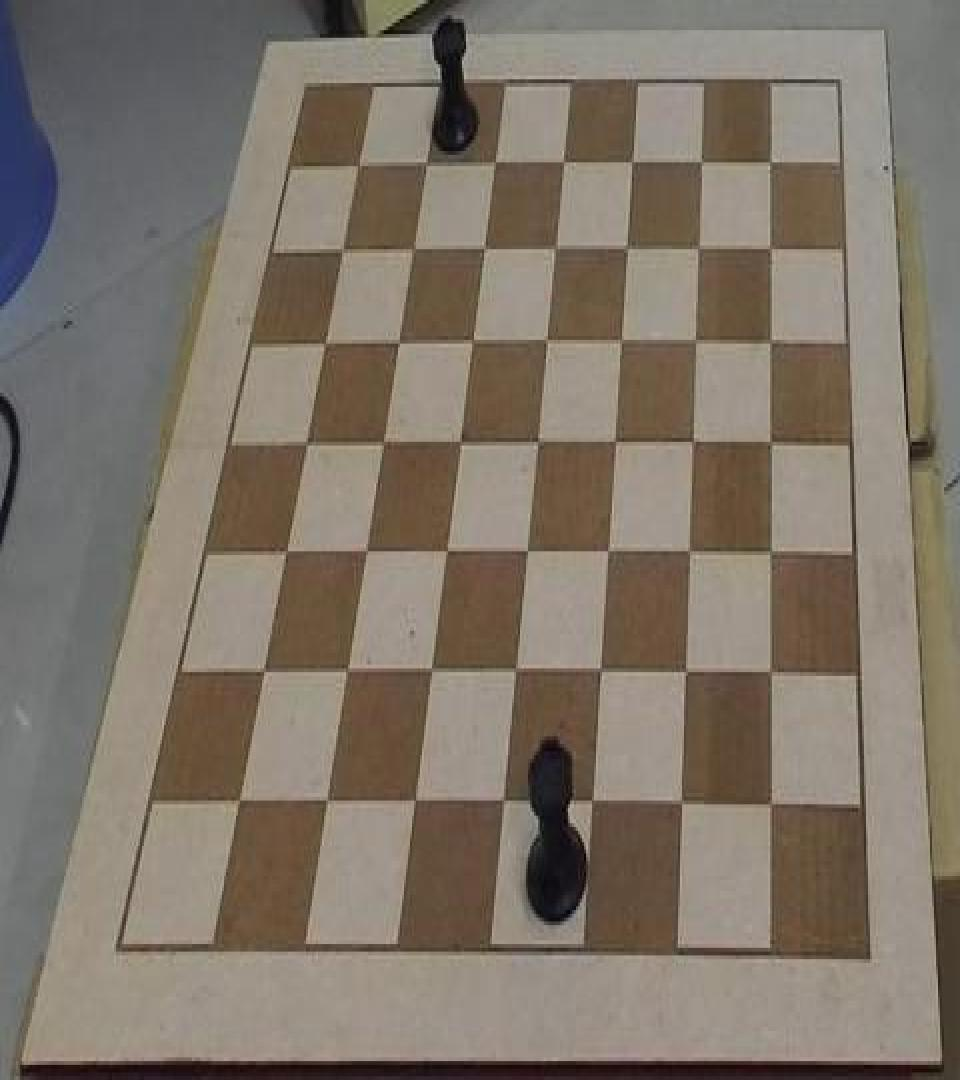xcorner: (761, 139, 781, 178), (691, 139, 711, 178), (622, 139, 642, 178), (553, 142, 573, 180), (484, 142, 504, 180), (416, 142, 436, 180), (348, 144, 368, 182), (761, 226, 781, 264), (689, 226, 709, 264), (617, 226, 637, 264), (545, 226, 565, 264), (474, 228, 494, 266), (403, 228, 423, 266), (332, 228, 352, 266), (761, 319, 781, 357), (686, 321, 706, 359), (611, 321, 631, 359), (536, 321, 556, 359), (462, 321, 482, 359), (388, 321, 408, 359), (315, 321, 335, 359), (762, 423, 782, 461), (683, 423, 703, 461), (605, 423, 625, 461), (527, 423, 547, 461), (450, 423, 470, 461), (372, 423, 392, 461), (296, 423, 316, 461), (762, 534, 782, 572), (680, 532, 700, 570), (598, 532, 618, 570), (517, 532, 537, 570), (436, 532, 456, 570), (355, 532, 375, 570), (275, 532, 295, 570), (762, 655, 782, 693), (676, 655, 696, 693), (591, 653, 611, 691), (506, 653, 526, 691), (421, 653, 441, 691), (337, 653, 357, 691), (253, 652, 273, 690), (763, 789, 783, 827), (673, 789, 693, 827), (583, 787, 603, 825), (493, 787, 513, 825), (404, 786, 424, 824), (316, 786, 336, 824), (228, 784, 248, 822)
